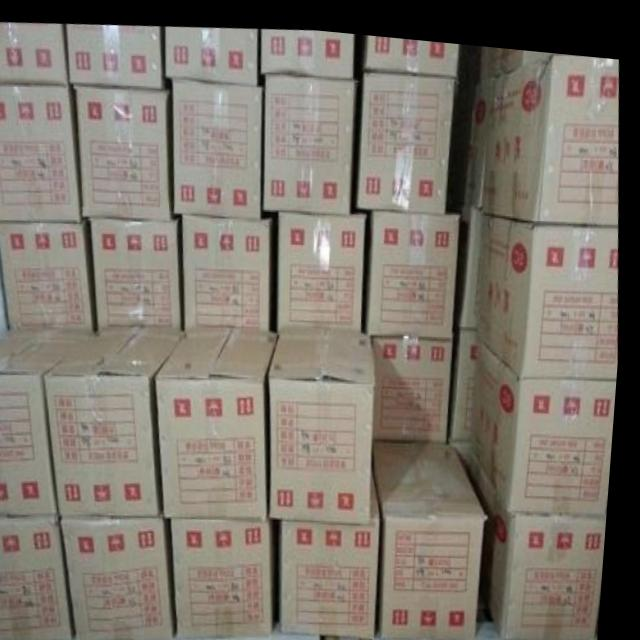box: (49, 322, 191, 514), (472, 437, 614, 629), (476, 329, 621, 501), (161, 320, 283, 514), (481, 201, 622, 367), (486, 42, 620, 211), (381, 430, 493, 630), (273, 323, 381, 517), (0, 325, 100, 515), (288, 474, 387, 634), (65, 513, 183, 640), (71, 82, 176, 216), (360, 63, 455, 205), (178, 514, 282, 636), (171, 75, 264, 211), (266, 70, 355, 204), (0, 82, 84, 222), (370, 203, 463, 329), (92, 213, 187, 328), (0, 218, 99, 327), (0, 513, 82, 640), (184, 211, 275, 324), (281, 206, 369, 322), (377, 331, 455, 431), (64, 22, 162, 85), (166, 23, 259, 81), (260, 23, 354, 73), (0, 22, 70, 84), (462, 68, 494, 199), (457, 188, 487, 318), (362, 28, 459, 66), (457, 318, 479, 431), (480, 36, 552, 70)
